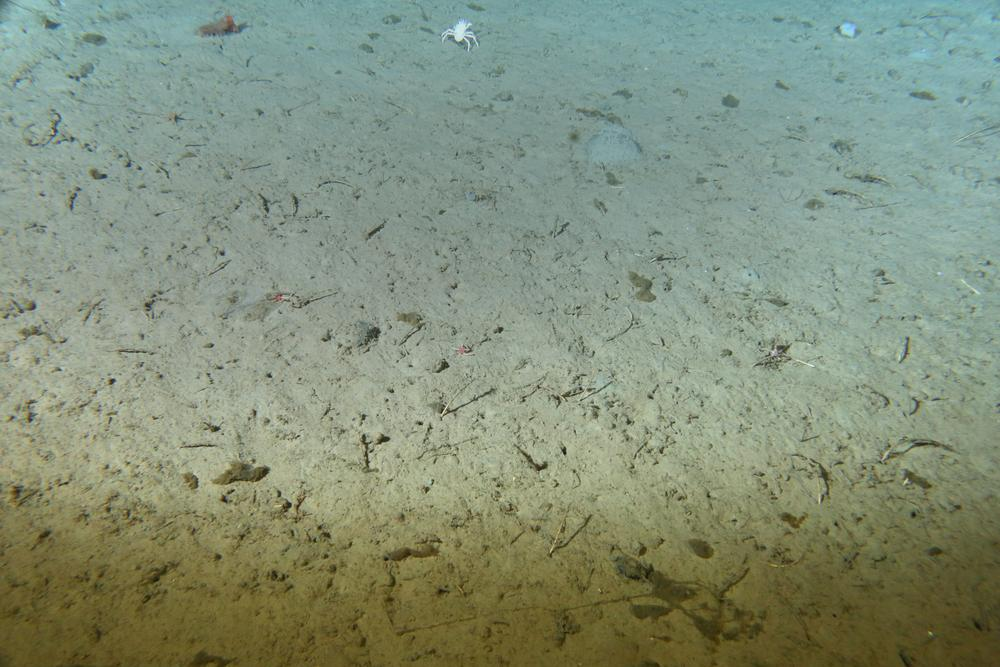Peniagone sp. A: (195, 15, 254, 39)
